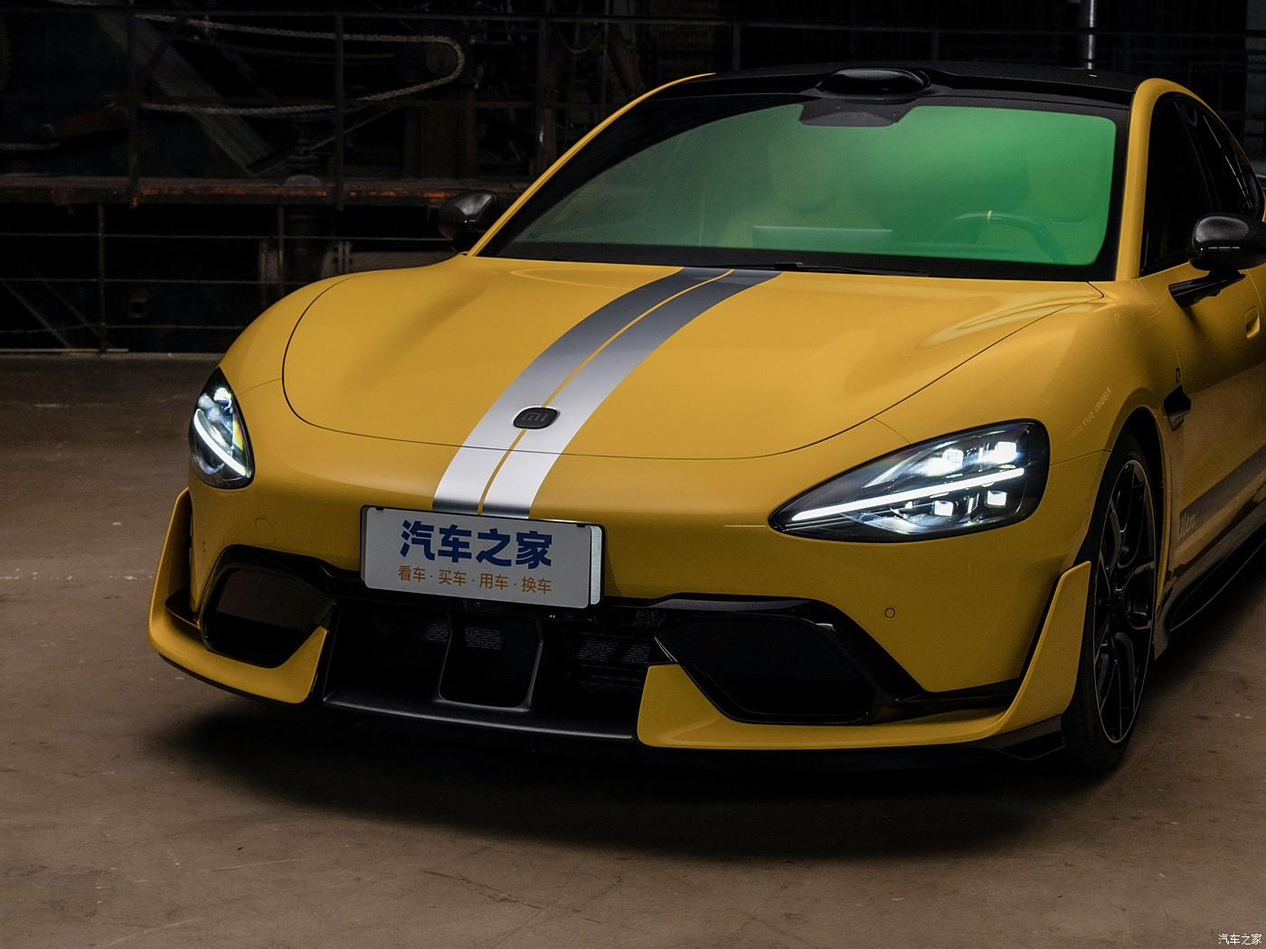XIAOMI: (513, 405, 559, 431)
